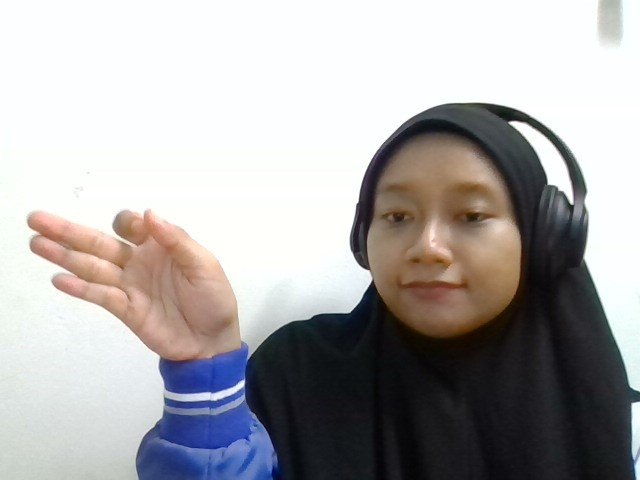Angsa: (28, 208, 242, 360)
